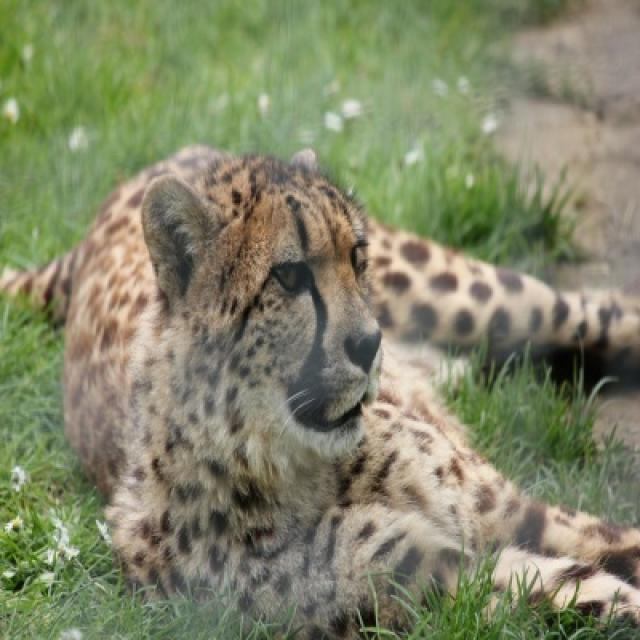Cheetah: (43, 147, 638, 638)
